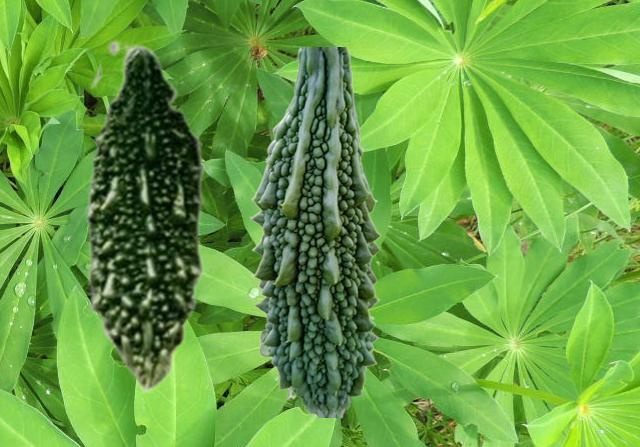ampalaya: (249, 47, 380, 416), (85, 39, 212, 394)
